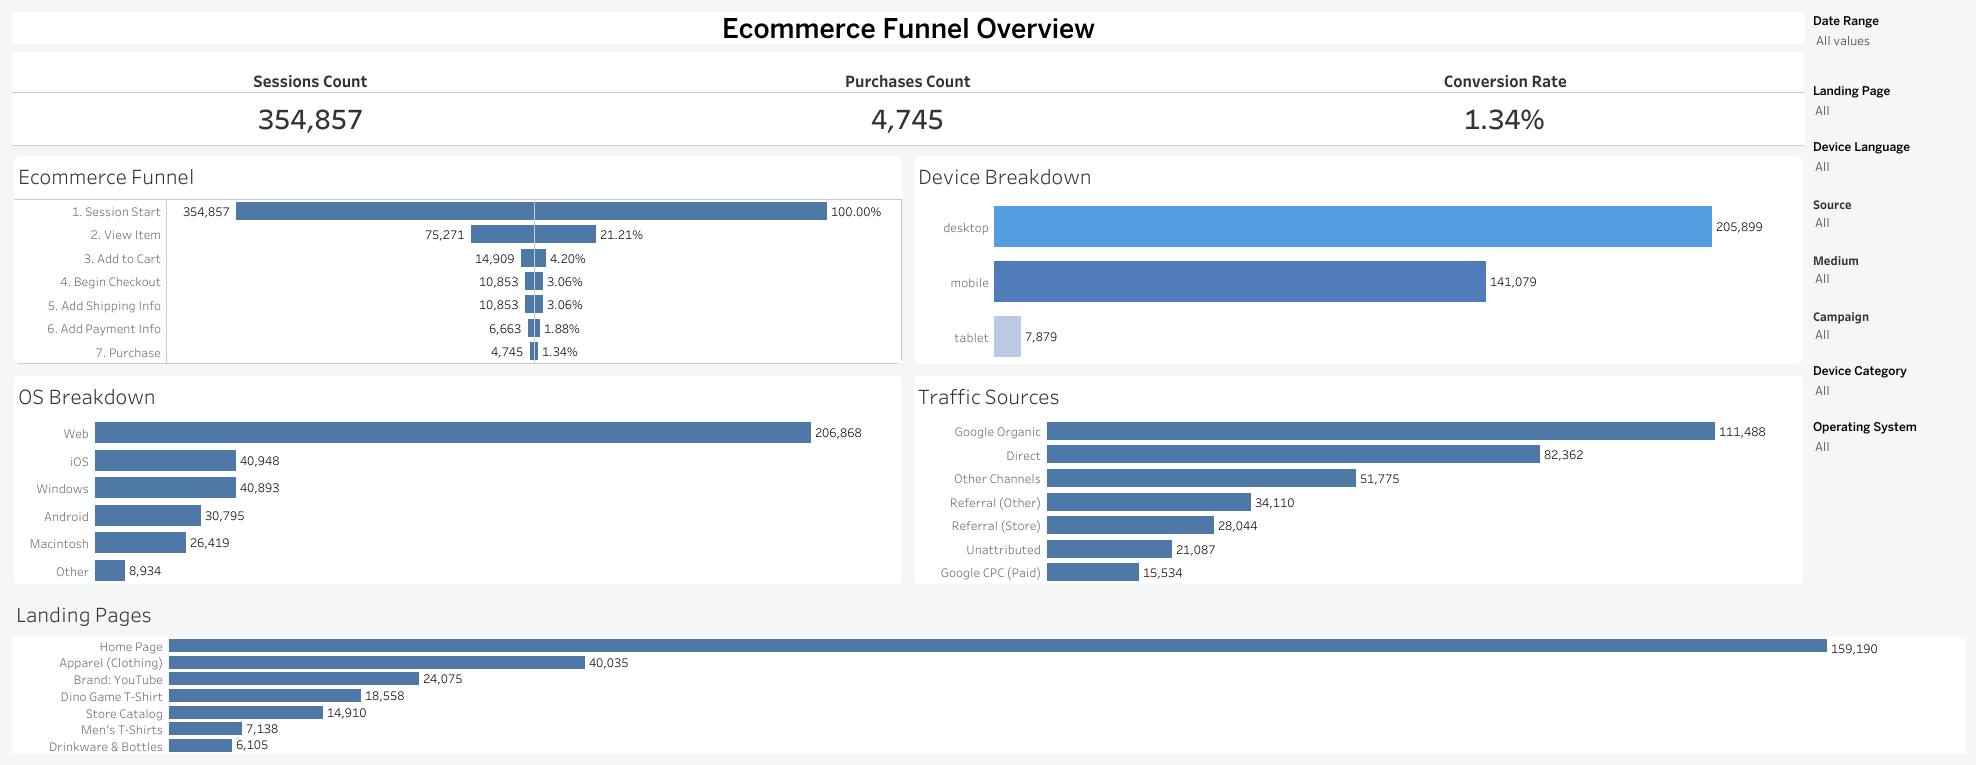

Layout of this report page (visuals, bound fields, positions):
{"tool":"tableau","page":{"name":"Ecommerce Funnel Overview","canvas":[1000,1000],"units":"permille","ordinal":0},"visuals":[{"type":"text","box":[4.8,9.4,893.8,52.4]},{"type":"filter","title":"Ecommerce Funnel","param":"[federated.0tfndhi19b253h1dib3ei1mi5gwg].[none:session_start_time:qk]","box":[898.6,9.4,96.6,85.8]},{"type":"worksheet","title":"KPI Banner","mark":"Automatic","box":[4.8,61.8,893.8,133.8]},{"type":"filter","title":"Ecommerce Funnel","param":"[federated.0tfndhi19b253h1dib3ei1mi5gwg].[none:landing_page:nk]","box":[898.6,95.2,96.6,71.7]},{"type":"filter","title":"Ecommerce Funnel","param":"[federated.0tfndhi19b253h1dib3ei1mi5gwg].[none:device_language:nk]","box":[898.6,166.9,96.6,71.7]},{"type":"worksheet","title":"Ecommerce Funnel","mark":"Automatic","rows":["Calculation_1353004373241856"],"cols":["Calculation_1353004373430273","Calculation_1353004373430273"],"box":[4.8,195.6,446.7,287.5]},{"type":"worksheet","title":"Device Breakdown","mark":"Automatic","rows":["device_category"],"cols":["Calculation_1353004373430273"],"box":[451.5,195.6,447.1,287.5]},{"type":"filter","title":"Traffic Sources","param":"[federated.0tfndhi19b253h1dib3ei1mi5gwg].[none:source:nk]","box":[898.6,238.5,96.6,71.7]},{"type":"filter","title":"Traffic Sources","param":"[federated.0tfndhi19b253h1dib3ei1mi5gwg].[none:medium:nk]","box":[898.6,310.2,96.6,71.7]},{"type":"filter","title":"Traffic Sources","param":"[federated.0tfndhi19b253h1dib3ei1mi5gwg].[none:campaign:nk]","box":[898.6,381.9,96.6,71.7]},{"type":"filter","title":"Device Breakdown","param":"[federated.0tfndhi19b253h1dib3ei1mi5gwg].[none:device_category:nk]","box":[898.6,453.6,96.6,71.7]},{"type":"worksheet","title":"OS Breakdown","mark":"Automatic","rows":["device_os"],"cols":["Calculation_1353004373430273"],"box":[4.8,483.2,446.7,287.7]},{"type":"worksheet","title":"Traffic Sources","mark":"Automatic","rows":["Calculation_1353004380921860"],"cols":["Calculation_1353004373430273"],"box":[451.5,483.2,447.1,287.7]},{"type":"filter","title":"OS Breakdown","param":"[federated.0tfndhi19b253h1dib3ei1mi5gwg].[none:device_os:nk]","box":[898.6,525.3,96.6,71.7]},{"type":"worksheet","title":"Landing Pages","mark":"Automatic","rows":["Calculation_0444532977377280"],"cols":["Calculation_1353004373430273"],"box":[4.8,770.9,990.3,219.7]}]}

Visuals, with their boxes on the dashboard's canvas, which has no fixed pixel size, in thousandths of its width and height (x1, y1, x2, y2). These are canvas units, not pixel positions in the 1976x765 screenshot, which may show the page scaled, cropped or inside an application window:
text: (left=5, top=9, right=899, bottom=62)
"Ecommerce Funnel" filter: (left=899, top=9, right=995, bottom=95)
"KPI Banner" worksheet: (left=5, top=62, right=899, bottom=196)
"Ecommerce Funnel" filter: (left=899, top=95, right=995, bottom=167)
"Ecommerce Funnel" filter: (left=899, top=167, right=995, bottom=239)
"Ecommerce Funnel" worksheet: (left=5, top=196, right=452, bottom=483)
"Device Breakdown" worksheet: (left=452, top=196, right=899, bottom=483)
"Traffic Sources" filter: (left=899, top=238, right=995, bottom=310)
"Traffic Sources" filter: (left=899, top=310, right=995, bottom=382)
"Traffic Sources" filter: (left=899, top=382, right=995, bottom=454)
"Device Breakdown" filter: (left=899, top=454, right=995, bottom=525)
"OS Breakdown" worksheet: (left=5, top=483, right=452, bottom=771)
"Traffic Sources" worksheet: (left=452, top=483, right=899, bottom=771)
"OS Breakdown" filter: (left=899, top=525, right=995, bottom=597)
"Landing Pages" worksheet: (left=5, top=771, right=995, bottom=991)
